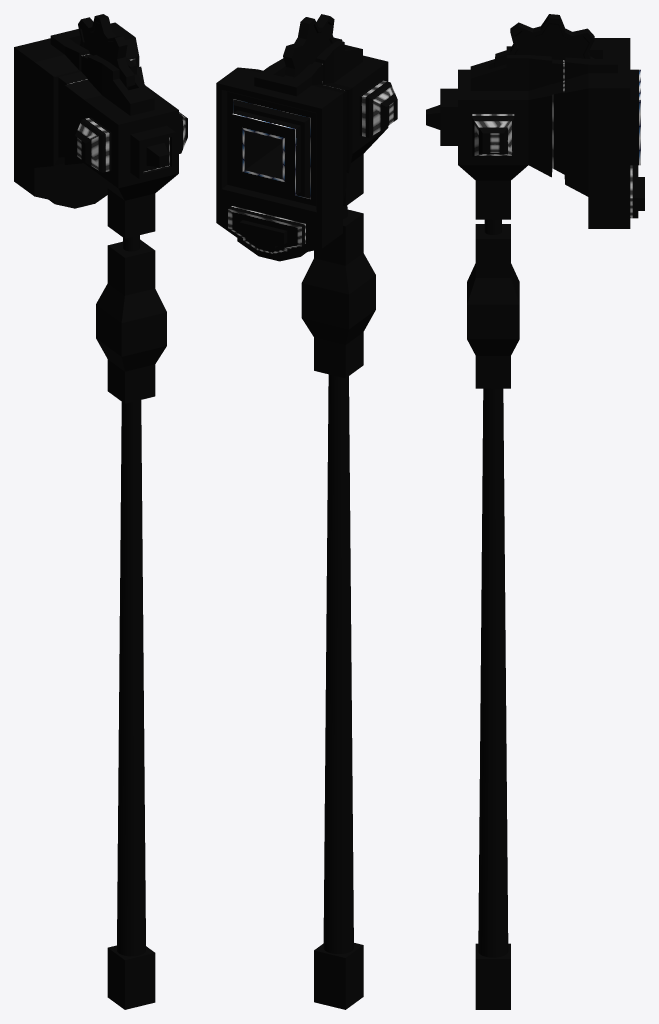
The model's file is Dispenser_2_0.fbx.
The picture shows the model from 3 angles, left to right: view 1: azimuth 30°, elevation 25°; view 2: azimuth 150°, elevation 25°; view 3: azimuth 270°, elevation 25°; orthographic projection. The views are drawn at different scales.
Visible parts, largest first — view 1: Dispenser, Dispenser_Prop_0, Dispenser_Prop_1, Gear; view 2: Dispenser, Dispenser_Prop_0, Dispenser_Prop_1, Gear; view 3: Dispenser, Dispenser_Prop_0, Dispenser_Prop_1, Gear.
Boxes of the visible parts, x1=… form: Dispenser: x1=14, y1=22, x2=187, y2=208; Dispenser_Prop_0: x1=107, y1=188, x2=155, y2=1009; Dispenser_Prop_1: x1=96, y1=239, x2=166, y2=403; Gear: x1=78, y1=14, x2=135, y2=89; Dispenser: x1=216, y1=40, x2=397, y2=261; Dispenser_Prop_0: x1=314, y1=154, x2=363, y2=1009; Dispenser_Prop_1: x1=301, y1=209, x2=375, y2=378; Gear: x1=283, y1=14, x2=342, y2=78; Dispenser: x1=426, y1=38, x2=644, y2=228; Dispenser_Prop_0: x1=475, y1=180, x2=510, y2=1009; Dispenser_Prop_1: x1=467, y1=224, x2=519, y2=388; Gear: x1=494, y1=14, x2=594, y2=67.
Size of the model in its own units: 1.01 by 9.08 by 1.83.
Materials: 1 (1 with a texture image).
